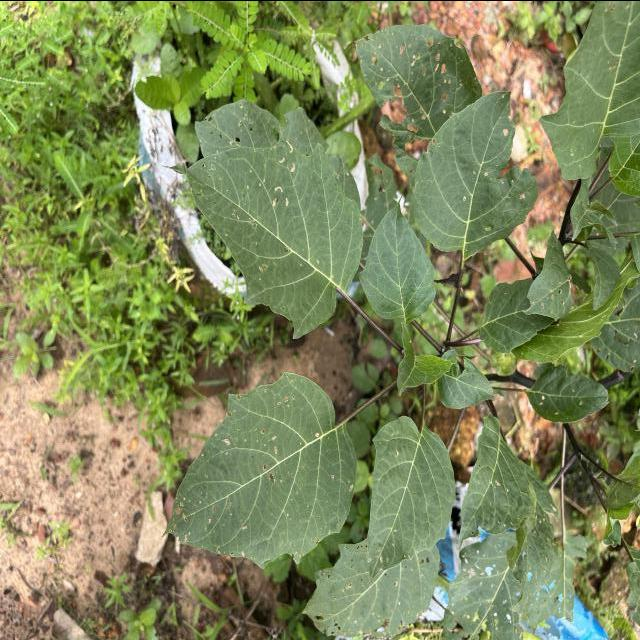Datura metal linn: (158, 128, 366, 341), (159, 368, 359, 572), (409, 86, 541, 262), (364, 411, 458, 588), (355, 191, 438, 326)
